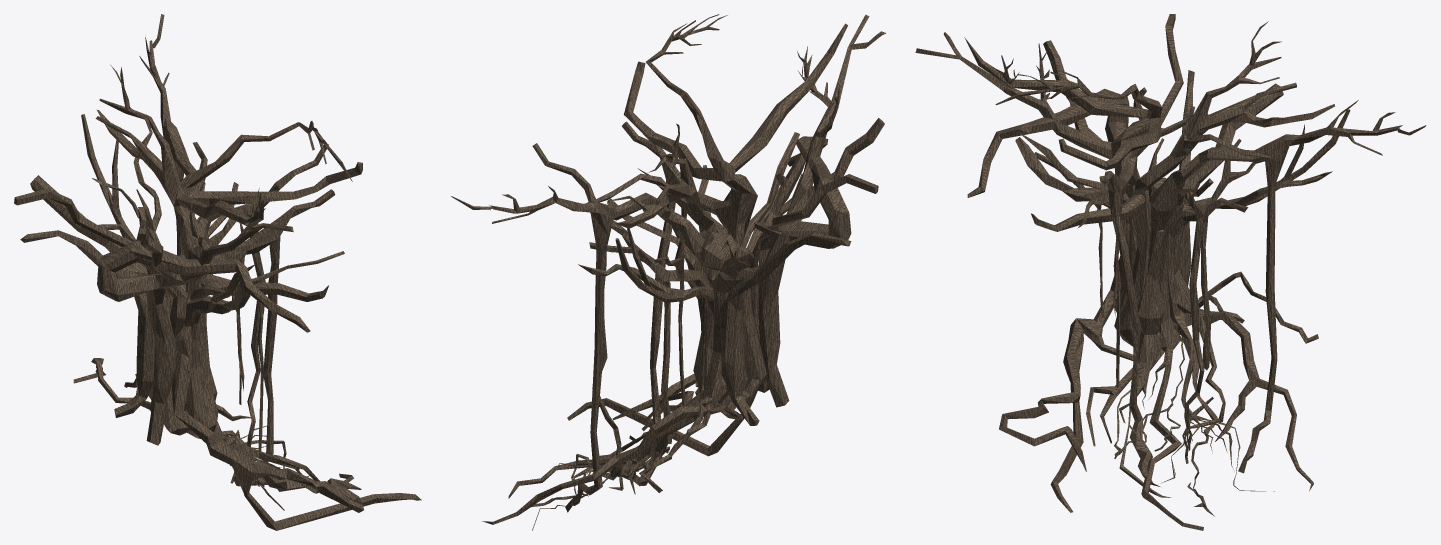
Rendered from newbanyantree.fbx.
3 renders of one model, left to right at view 1: azimuth 30°, elevation 25°; view 2: azimuth 150°, elevation 25°; view 3: azimuth 270°, elevation 25°, orthographic. The views are drawn at different scales.
Visible parts, largest first — view 1: Vert; view 2: Vert; view 3: Vert.
Boxes of the visible parts, <box> form: Vert: <box>14,14,421,530</box>; Vert: <box>451,14,886,530</box>; Vert: <box>915,14,1426,530</box>.
Bounding box in the file's own units: 1405 × 1661 × 1838.
